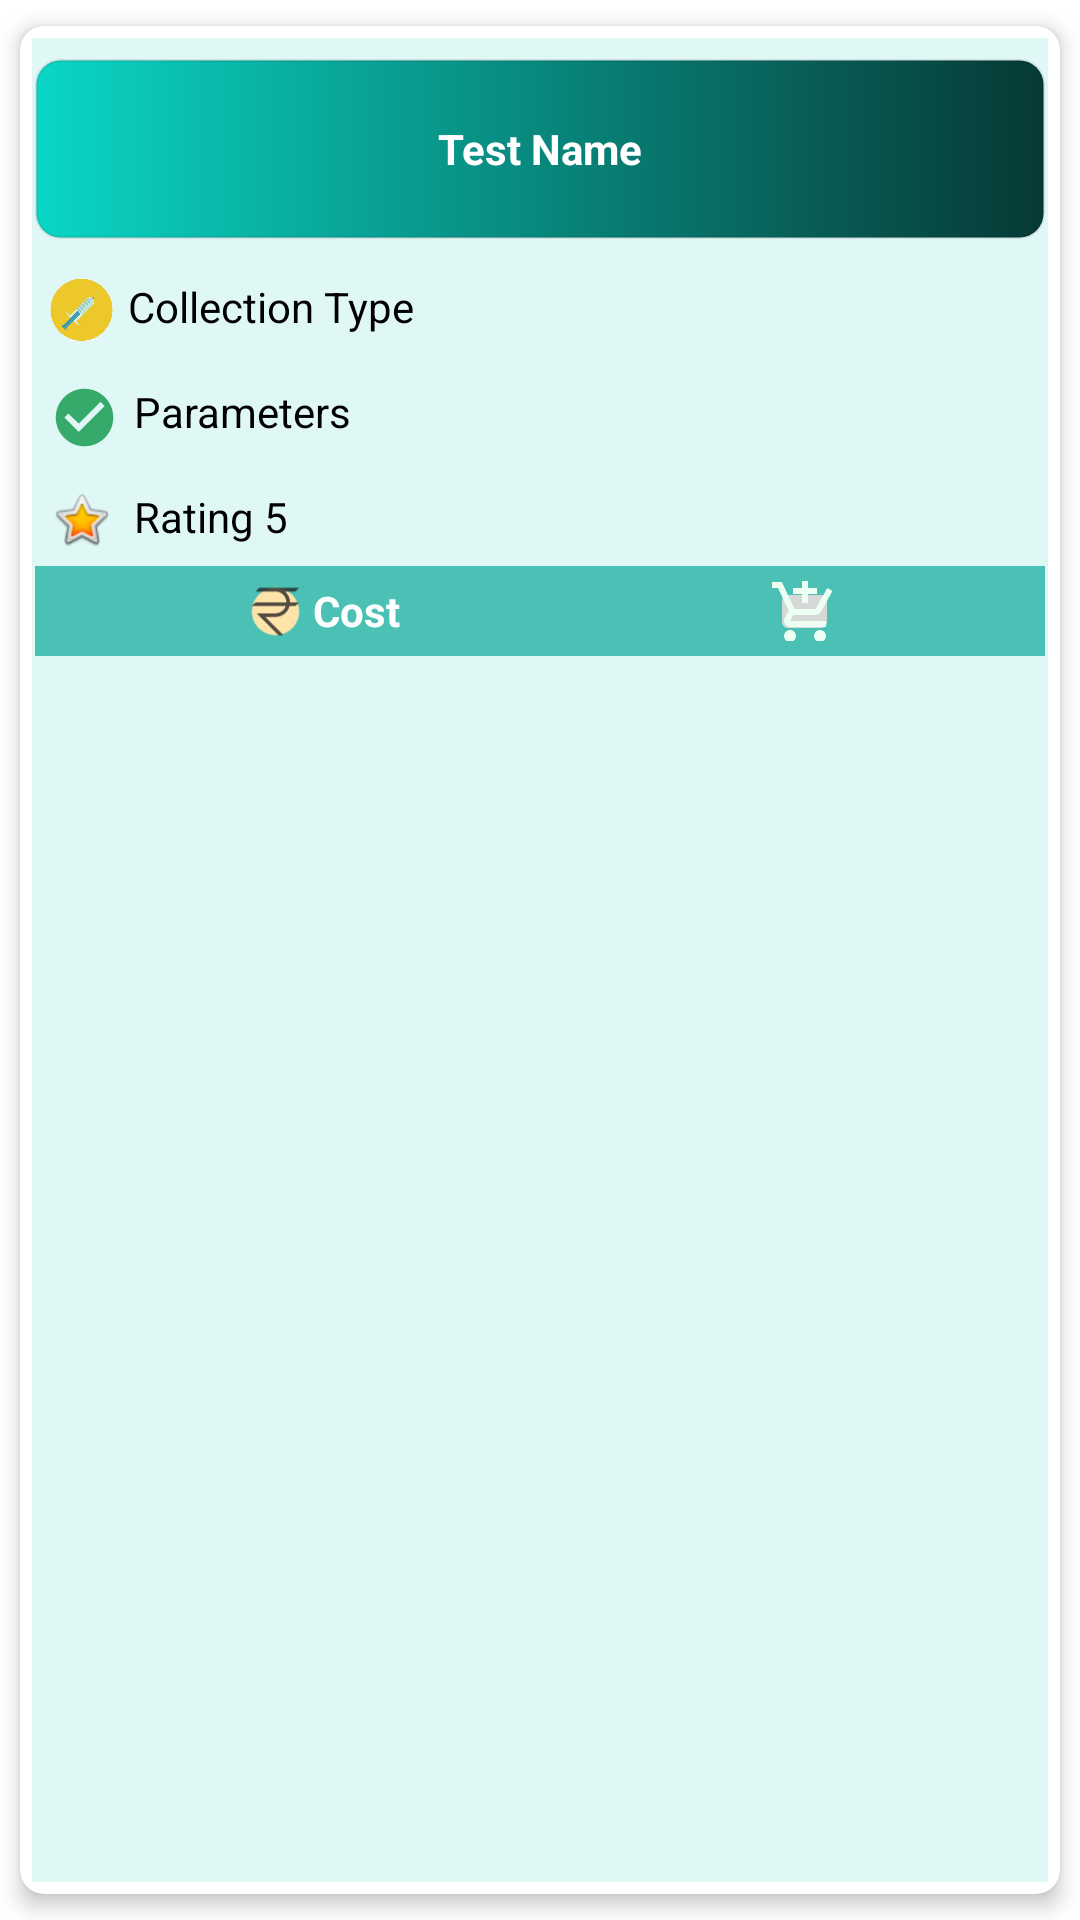

Where to tap for icons on this 1080x1920 app screen, as point (x, y):
add to cart: point (802, 611)
check: point (84, 417)
currency rupee sign: point (275, 611)
star on: point (82, 520)
